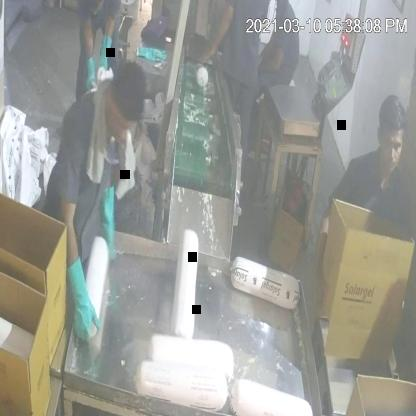no_glove: (304, 199, 340, 339), (194, 3, 241, 77)
